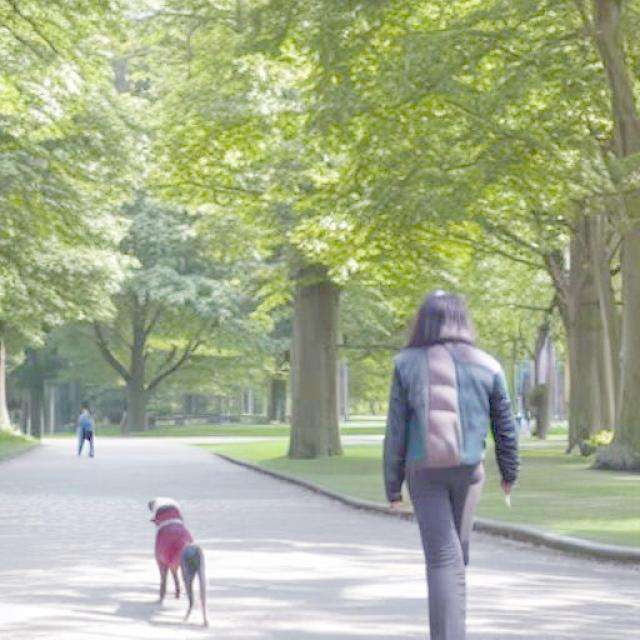Unleashed_Dog: (146, 448, 481, 628)
